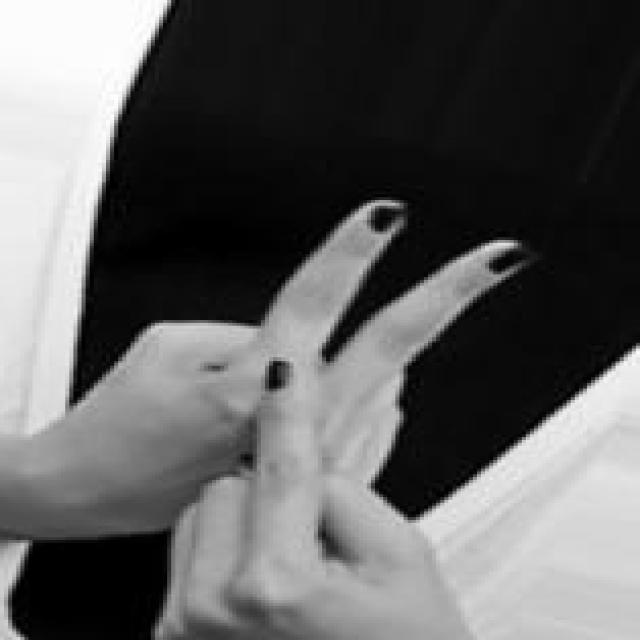Y: (17, 200, 538, 640)
